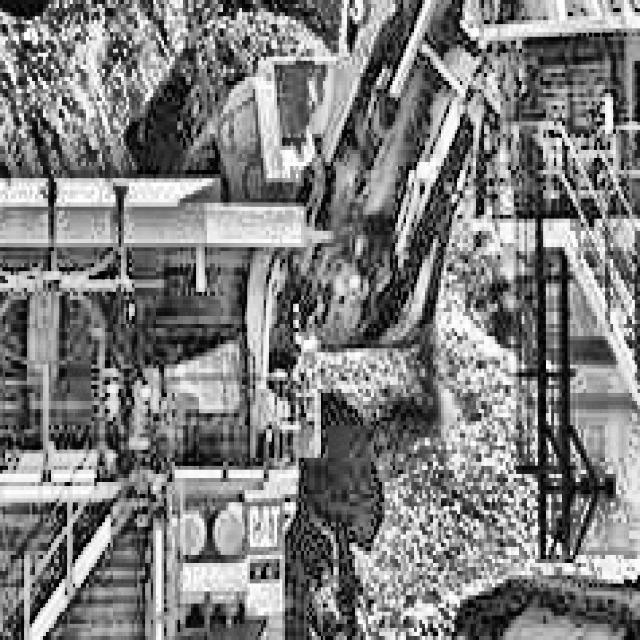dump_truck: (0, 186, 360, 639)
excavator: (193, 0, 640, 640)
